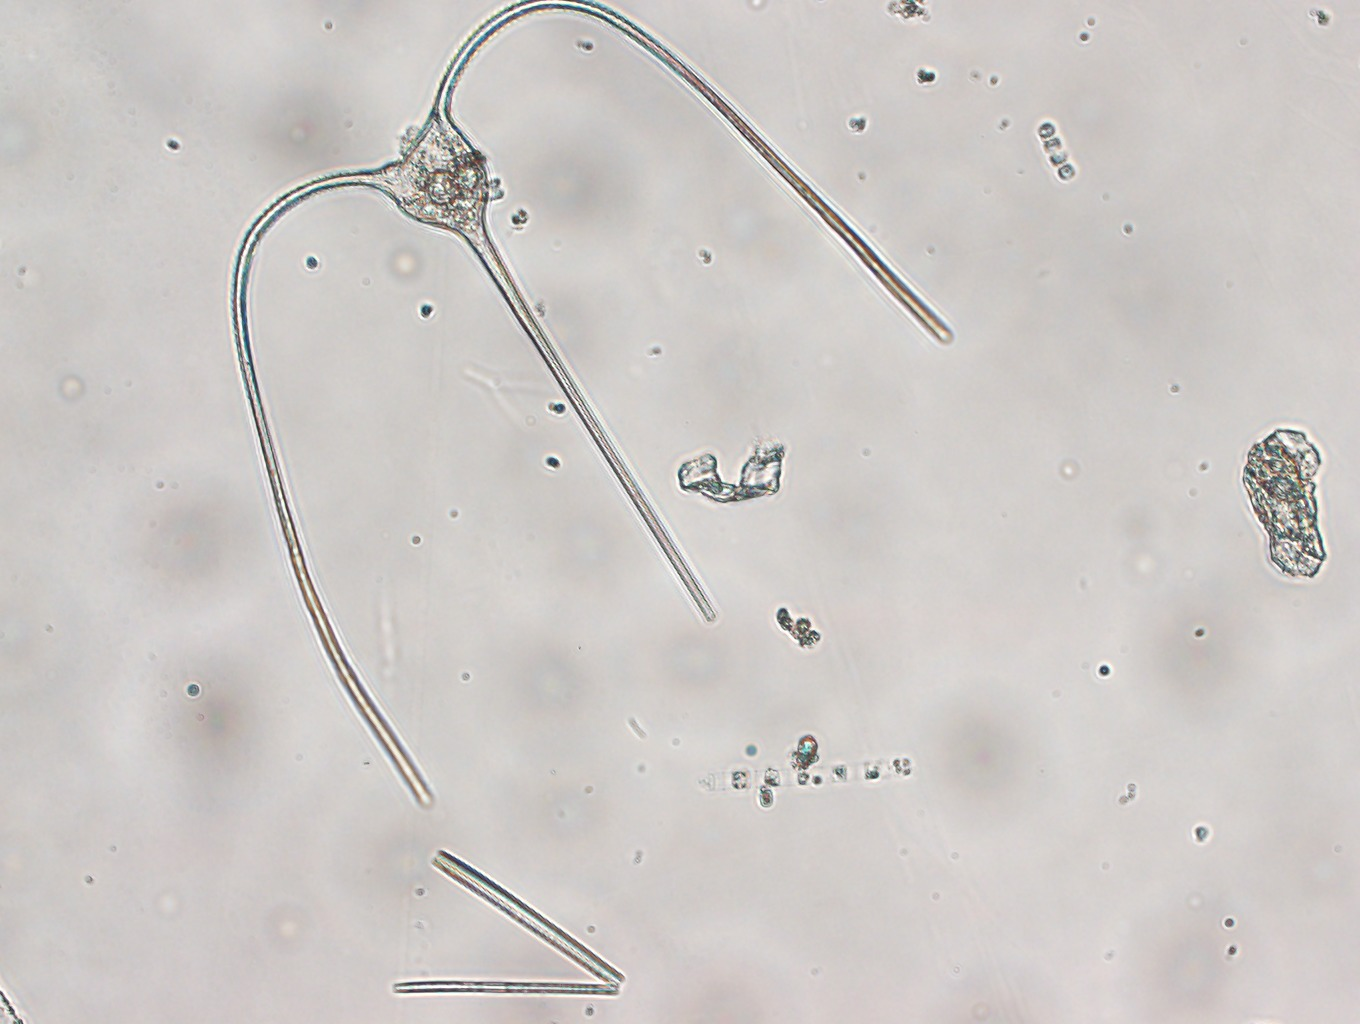ceratium trichoceros: (216, 1, 986, 809)
skeletonema: (689, 742, 930, 800), (1029, 105, 1083, 190)
thalassionema frauenfeldii: (375, 833, 632, 1008)
